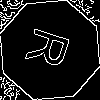R: (25, 25, 80, 74)
